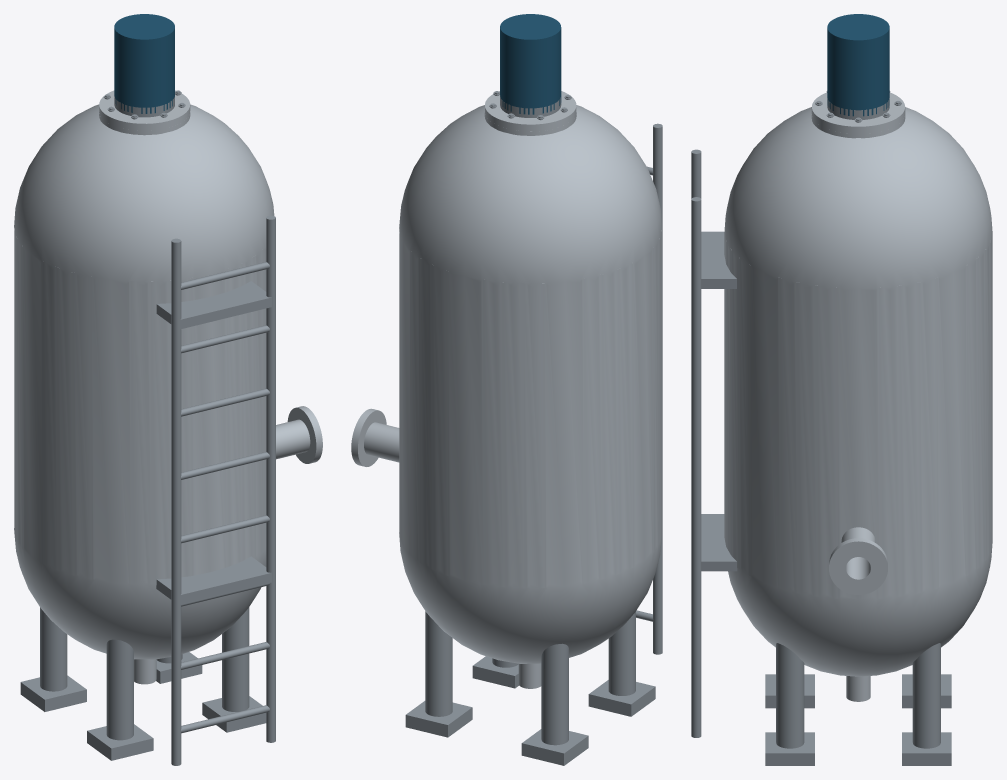
The picture shows the model from 3 angles, left to right: view 1: azimuth 30°, elevation 25°; view 2: azimuth 150°, elevation 25°; view 3: azimuth 270°, elevation 25°; orthographic projection. The views are drawn at different scales.
Visible parts, largest first — view 1: Dished_stainless_vessel_shell, Ladder_rails, Agitator_motor_housing, Ladder_rungs, Ladder_standoff_brackets, Support_leg_2, Support_leg_1, Support_leg_3, Access_cover, Anchor_foot_3, Anchor_foot_2, Side_process_nozzle (+5 smaller); view 2: Dished_stainless_vessel_shell, Agitator_motor_housing, Support_leg_3, Support_leg_4, Ladder_rails, Support_leg_2, Access_cover, Anchor_foot_4, Anchor_foot_2, Anchor_foot_3, Side_process_nozzle, Nozzle_flange (+3 smaller); view 3: Dished_stainless_vessel_shell, Ladder_rails, Agitator_motor_housing, Ladder_standoff_brackets, Support_leg_1, Support_leg_4, Nozzle_flange, Access_cover, Anchor_foot_1, Anchor_foot_4, Anchor_foot_2, Anchor_foot_3 (+3 smaller).
Part boxes in pixels (x1,y1,x2,y2): Dished_stainless_vessel_shell: (14,104,274,659); Ladder_rails: (171,215,275,765); Agitator_motor_housing: (114,14,174,113); Ladder_rungs: (181,262,269,733); Ladder_standoff_brackets: (156,281,271,604); Support_leg_2: (106,639,133,740); Support_leg_1: (222,607,249,711); Support_leg_3: (40,607,67,691); Access_cover: (99,90,190,130); Anchor_foot_3: (20,675,86,711); Anchor_foot_2: (87,724,153,760); Side_process_nozzle: (276,419,310,459); Dished_stainless_vessel_shell: (399,105,662,663); Agitator_motor_housing: (500,14,561,114); Support_leg_3: (541,643,568,745); Support_leg_4: (425,611,452,716); Ladder_rails: (653,123,662,654); Support_leg_2: (608,611,635,695); Access_cover: (485,91,576,131); Anchor_foot_4: (405,701,472,737); Anchor_foot_2: (588,680,655,716); Anchor_foot_3: (521,729,588,765); Side_process_nozzle: (364,422,399,462); Nozzle_flange: (351,408,386,466); Dished_stainless_vessel_shell: (724,107,992,676); Ladder_rails: (691,149,701,737); Agitator_motor_housing: (827,14,889,116); Ladder_standoff_brackets: (701,231,737,571); Support_leg_1: (776,643,804,748); Support_leg_4: (912,643,940,748); Nozzle_flange: (829,538,887,594); Access_cover: (811,92,905,133); Anchor_foot_1: (765,732,814,765); Anchor_foot_4: (902,732,951,765); Anchor_foot_2: (765,674,814,708); Anchor_foot_3: (902,674,951,708).
Size of the model in its own units: 1.05 by 2.48 by 0.966.
